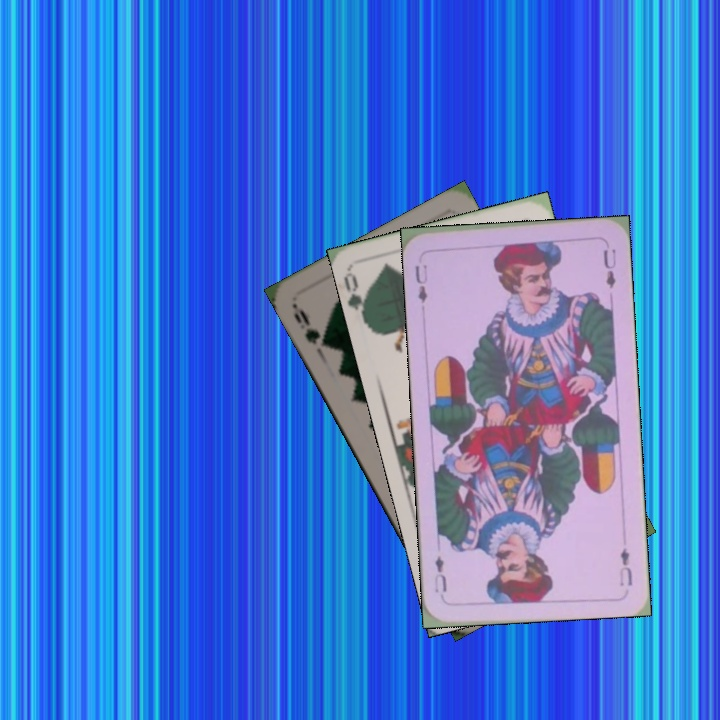EU: (411, 261, 431, 311), (615, 543, 635, 589)
G9: (288, 301, 333, 350)
GO: (341, 269, 372, 327)
